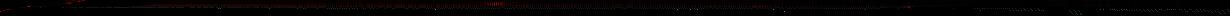Yellow cone: (483, 2, 507, 6), (905, 6, 914, 8)
